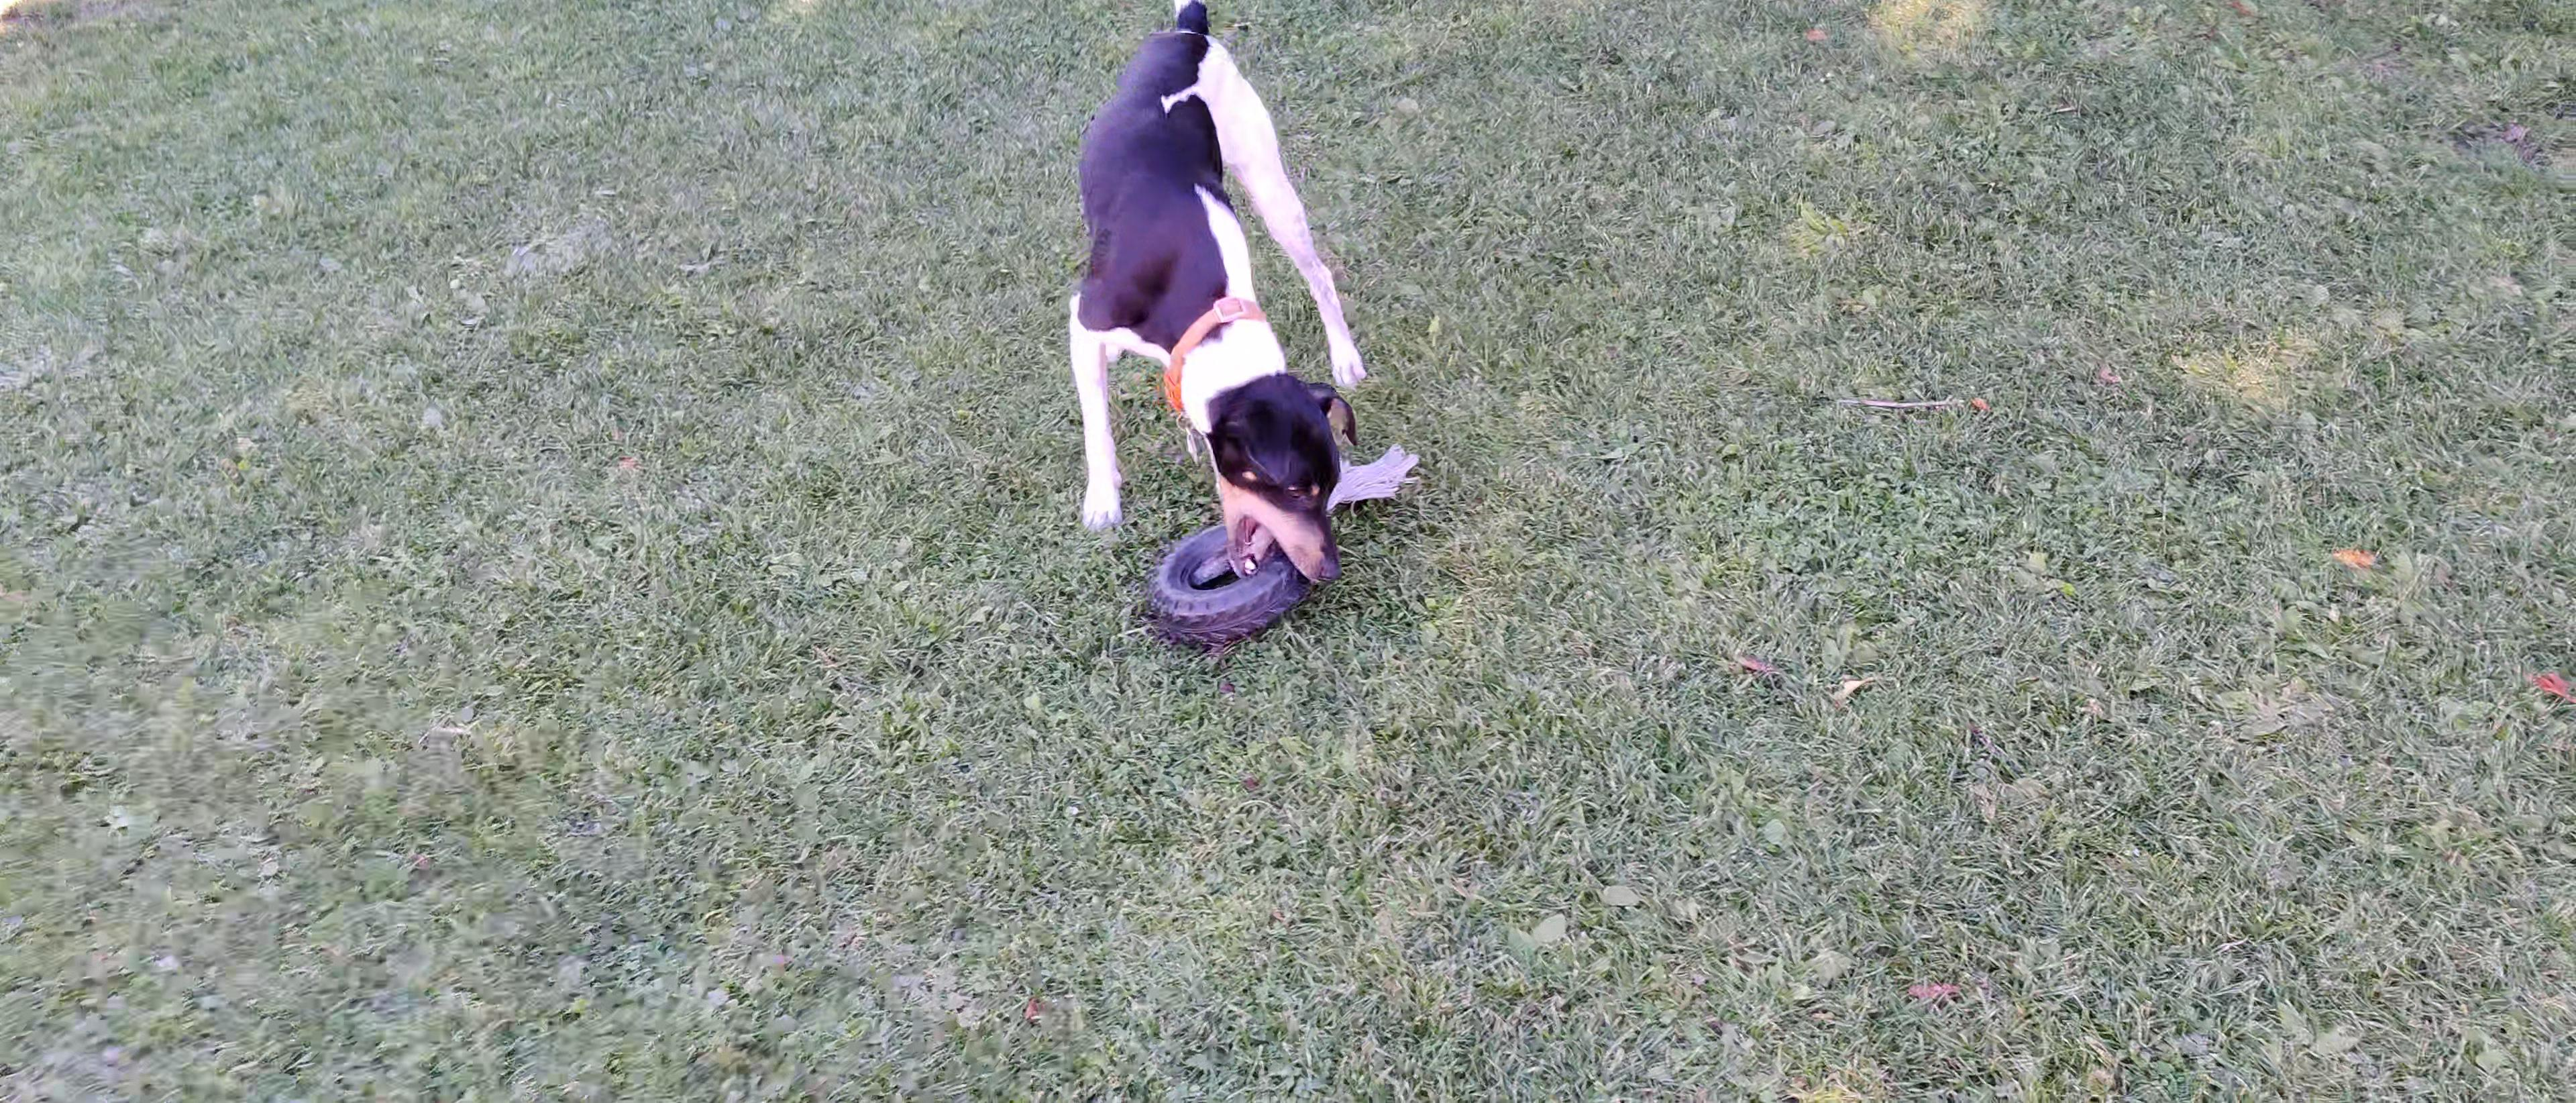Dog: (1045, 0, 1410, 592)
